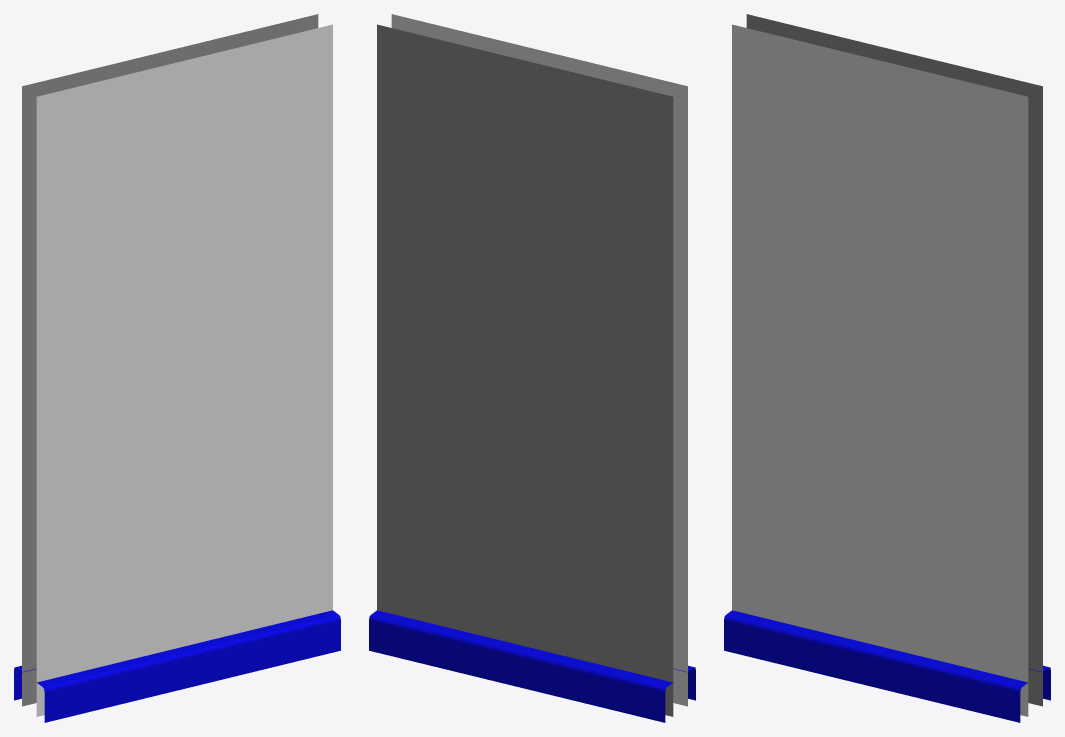
File: HalfVertPlainWall.fbx
3 renders of one model, left to right at view 1: azimuth 30°, elevation 25°; view 2: azimuth 150°, elevation 25°; view 3: azimuth 330°, elevation 25°, orthographic.
Visible parts, largest first — view 1: Wall, Trim; view 2: Wall, Trim; view 3: Wall, Trim.
Part boxes in pixels (x1,y1,x2,y2): Wall: (22,14,332,716); Trim: (14,610,340,722); Wall: (377,14,687,716); Trim: (369,610,695,722); Wall: (732,14,1042,716); Trim: (724,610,1050,722).
Size of the model in its own units: 6 by 12 by 1.07.
